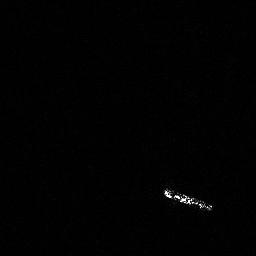ship: (160, 183, 215, 214)
